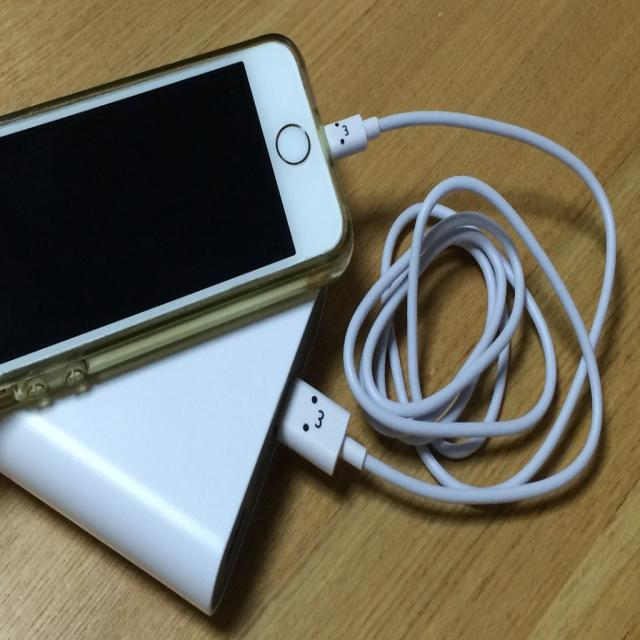Mobile-phone: (2, 36, 374, 380)
